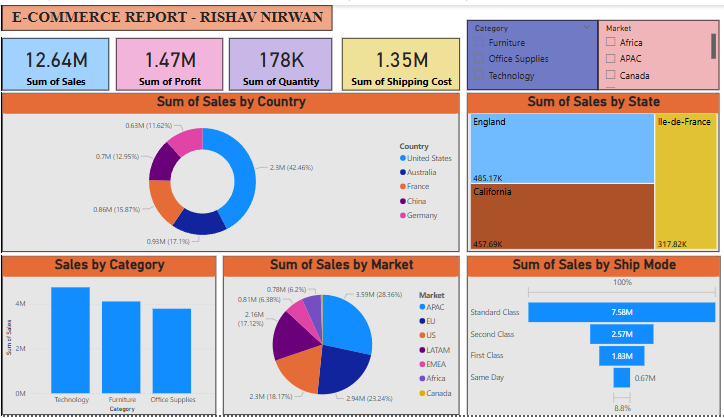

The dashboard page shown, as its layout file describes it:
{"tool":"powerbi","page":{"name":"Page 1","canvas":[1280,720],"ordinal":0},"visuals":[{"type":"columnChart","title":"Sales by Category","fields":{"Category":["Orders.Category"],"Y":["Sum(Orders.Sales)"]},"box":[0,440.6,375.8,279.4],"z":0},{"type":"pieChart","fields":{"Category":["Orders.Market"],"Y":["Sum(Orders.Sales)"]},"box":[388.8,440.6,414.7,279.4],"z":1000},{"type":"funnel","fields":{"Category":["Orders.Ship Mode"],"Y":["Sum(Orders.Sales)"]},"box":[816.4,440.1,445.1,280.5],"z":2000},{"type":"donutChart","fields":{"Category":["Orders.Country"],"Y":["Sum(Orders.Sales)"]},"box":[0,154.5,802.9,278.8],"z":3000},{"type":"card","fields":{"Values":["Sum(Orders.Sales)"]},"box":[0,57.1,188.1,92.4],"z":4000},{"type":"card","fields":{"Values":["Sum(Orders.Profit)"]},"box":[199.9,57.1,188.1,92.4],"z":5000},{"type":"card","fields":{"Values":["Sum(Orders.Quantity)"]},"box":[398.1,57.1,181.4,92.4],"z":6000},{"type":"card","fields":{"Values":["Sum(Orders.Shipping Cost)"]},"box":[596.3,57.1,206.6,92.4],"z":7000},{"type":"slicer","fields":{"Values":["Orders.Category"]},"box":[816.4,26.9,230.1,122.6],"z":8000},{"type":"slicer","fields":{"Values":["Orders.Market"]},"box":[1046.5,26.9,213.3,122.6],"z":9000},{"type":"textbox","box":[0,0,579.5,45.4],"z":10000},{"type":"treemap","fields":{"Group":["Orders.State"],"Values":["Sum(Orders.Sales)"]},"box":[816.4,154.5,443.5,278.8],"z":11000}]}

Visuals, with their boxes in screenshot pixels (x1, y1, x2, y2), scaled from the page's 1280x720 canvas onto the 724x418 screenshot:
"Sales by Category" columnChart: 0, 256, 213, 417
pieChart - Orders.Market x Sum(Orders.Sales): 220, 256, 454, 417
funnel - Orders.Ship Mode x Sum(Orders.Sales): 462, 256, 714, 417
donutChart - Orders.Country x Sum(Orders.Sales): 0, 90, 454, 252
card - Sum(Orders.Sales): 0, 33, 106, 87
card - Sum(Orders.Profit): 113, 33, 219, 87
card - Sum(Orders.Quantity): 225, 33, 328, 87
card - Sum(Orders.Shipping Cost): 337, 33, 454, 87
slicer - Orders.Category: 462, 16, 592, 87
slicer - Orders.Market: 592, 16, 713, 87
textbox: 0, 0, 328, 26
treemap - Orders.State x Sum(Orders.Sales): 462, 90, 713, 252
